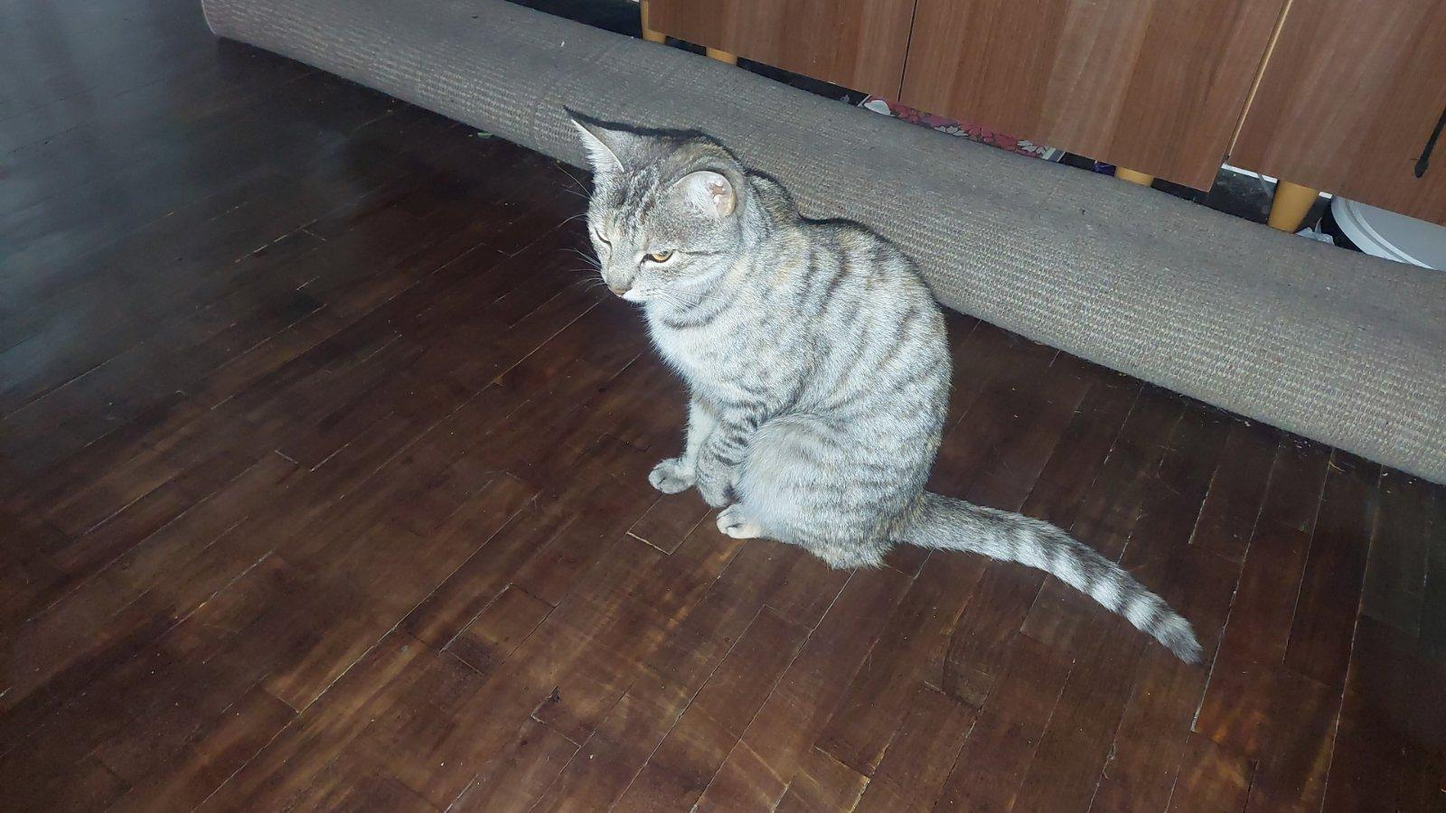macka: (562, 104, 1204, 670)
